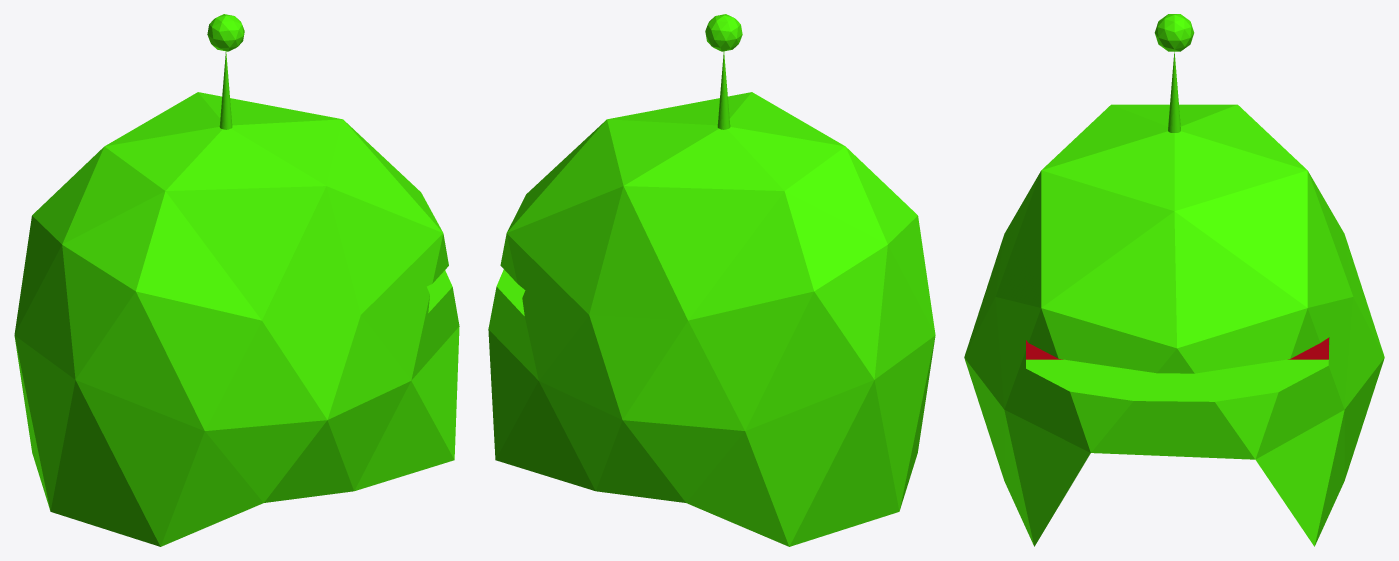
The model's file is HeroHelmet.fbx.
3 views of the same model, side by side, from view 1: azimuth 30°, elevation 25°; view 2: azimuth 150°, elevation 25°; view 3: azimuth 270°, elevation 25° (orthographic). The views are drawn at different scales.
Visible parts, largest first — view 1: Icosphere; view 2: Icosphere; view 3: Icosphere, Cube.
Boxes of the visible parts, <box> form: Icosphere: <box>14,14,459,546</box>; Icosphere: <box>488,14,935,546</box>; Icosphere: <box>964,14,1384,546</box>; Cube: <box>1026,337,1328,359</box>.
Bounding box in the file's own units: 170 × 195 × 158.
